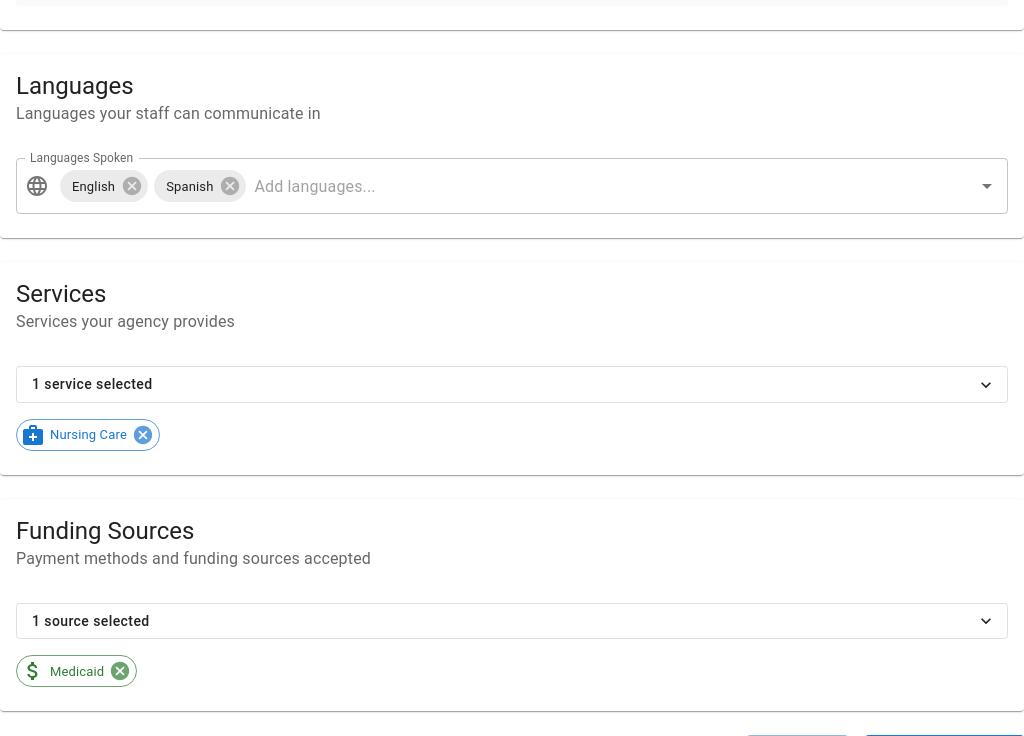
Scenario: Edit Agency Page - Component Tests › Services Selection › opens services modal when button clicked
The image size is (1024, 736).
(page scrolled)
Step 1. Click the button "1 service selected" → coordinates (92, 384), box [16,366,1008,403]
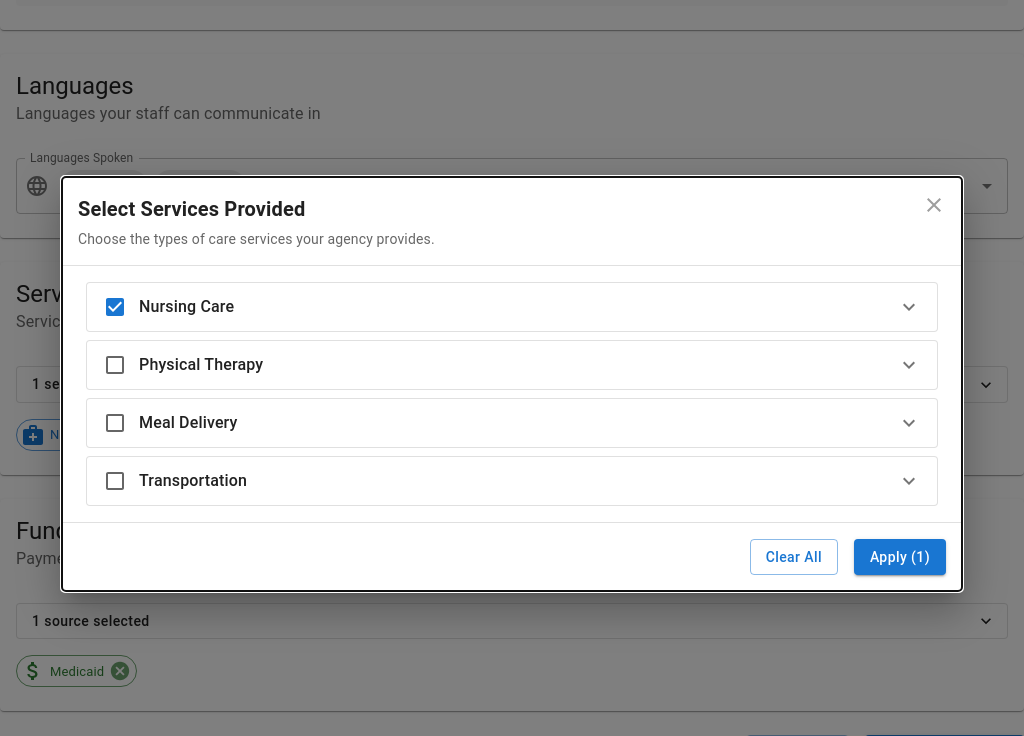
Expected: the text "Select Services Provided" is shown, [78,197,305,221]
